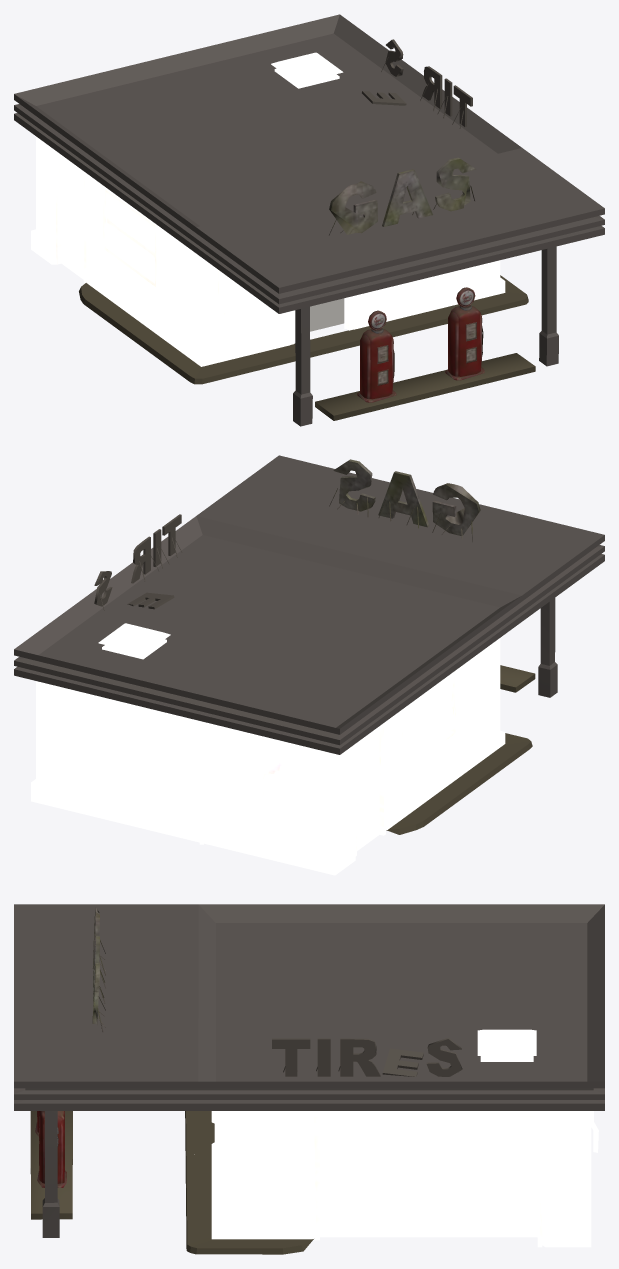
The model's file is roadside-gas.access-v19.lod1.glb.
3 views of the same model, one above another, from view 1: azimuth 30°, elevation 25°; view 2: azimuth 150°, elevation 25°; view 3: azimuth 270°, elevation 25° (orthographic). The views are drawn at different scales.
Visible parts, largest first — view 1: Brick_A:Brick_Single_Geo_Single_Brick_0, Gas_Station_Model:Gas_Station_Body_main_shader_0, GAS_Sign:Supports_GAS_SIgn_0, Gas_Pump:Body_Geo_Pump_Main_Shader_0, Gas_Station_Model:polySurface3_Building_Extra_Shader_0, Gas_Pump:Pump_Top_Sign_Geo_pump_misc_shader_0; view 2: Brick_A:Brick_Single_Geo_Single_Brick_0, Gas_Station_Model:Gas_Station_Body_main_shader_0, Gas_Station_Model:polySurface3_Building_Extra_Shader_0, GAS_Sign:Supports_GAS_SIgn_0; view 3: Brick_A:Brick_Single_Geo_Single_Brick_0, Gas_Station_Model:polySurface3_Building_Extra_Shader_0, Gas_Station_Model:Gas_Station_Body_main_shader_0, Gas_Pump:Body_Geo_Pump_Main_Shader_0, GAS_Sign:Supports_GAS_SIgn_0.
Part boxes in pixels (<box>): Brick_A:Brick_Single_Geo_Single_Brick_0: <box>14,14,604,426</box>; Gas_Station_Model:Gas_Station_Body_main_shader_0: <box>31,136,505,366</box>; GAS_Sign:Supports_GAS_SIgn_0: <box>329,157,475,235</box>; Gas_Pump:Body_Geo_Pump_Main_Shader_0: <box>357,306,484,402</box>; Gas_Station_Model:polySurface3_Building_Extra_Shader_0: <box>57,52,346,341</box>; Gas_Pump:Pump_Top_Sign_Geo_pump_misc_shader_0: <box>368,287,483,377</box>; Brick_A:Brick_Single_Geo_Single_Brick_0: <box>14,455,604,834</box>; Gas_Station_Model:Gas_Station_Body_main_shader_0: <box>31,638,505,875</box>; Gas_Station_Model:polySurface3_Building_Extra_Shader_0: <box>98,623,383,850</box>; GAS_Sign:Supports_GAS_SIgn_0: <box>329,459,480,542</box>; Brick_A:Brick_Single_Geo_Single_Brick_0: <box>14,904,604,1254</box>; Gas_Station_Model:polySurface3_Building_Extra_Shader_0: <box>320,1029,598,1237</box>; Gas_Station_Model:Gas_Station_Body_main_shader_0: <box>211,1111,591,1247</box>; Gas_Pump:Body_Geo_Pump_Main_Shader_0: <box>35,1111,66,1187</box>; GAS_Sign:Supports_GAS_SIgn_0: <box>92,907,105,1032</box>.
Bounding box in the file's own units: 12.84 × 7.47 × 17.41.
Materials: 6 (5 with a texture image).
